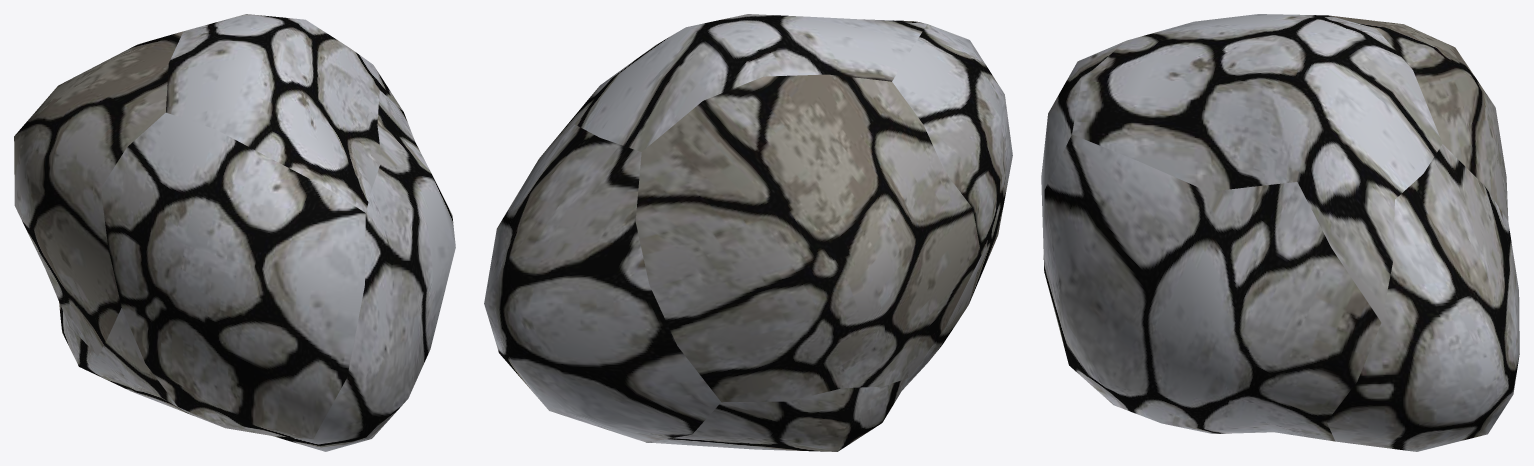
3 renders of one model, left to right at view 1: azimuth 30°, elevation 25°; view 2: azimuth 150°, elevation 25°; view 3: azimuth 270°, elevation 25°, orthographic. The views are drawn at different scales.
Parts seen in each view (by area): view 1: Mossy_Rock_3; view 2: Mossy_Rock_3; view 3: Mossy_Rock_3.
Boxes of the visible parts, x1,y1,x2,y2 form: Mossy_Rock_3: [14, 14, 455, 451]; Mossy_Rock_3: [484, 14, 1012, 451]; Mossy_Rock_3: [1041, 14, 1519, 451].
Bounding box in the file's own units: 2.96 × 2.73 × 3.16.
